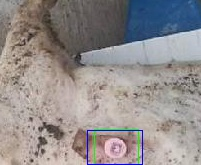text: (94, 129, 138, 165)
